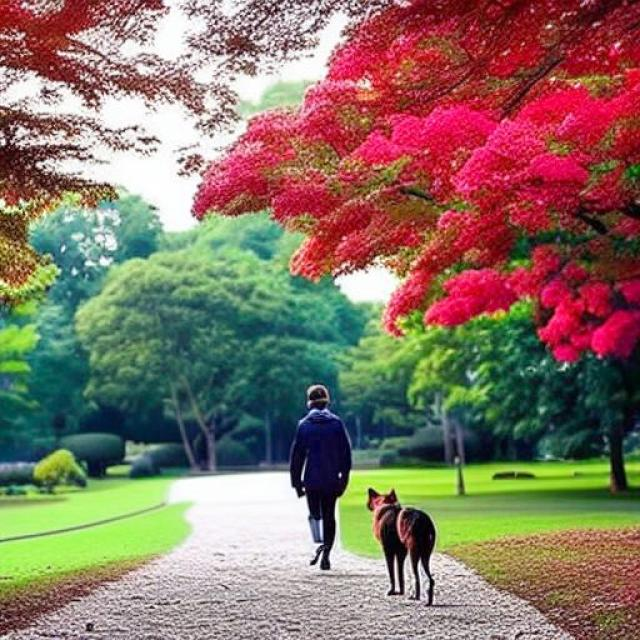Unleashed_Dog: (303, 467, 436, 606)
